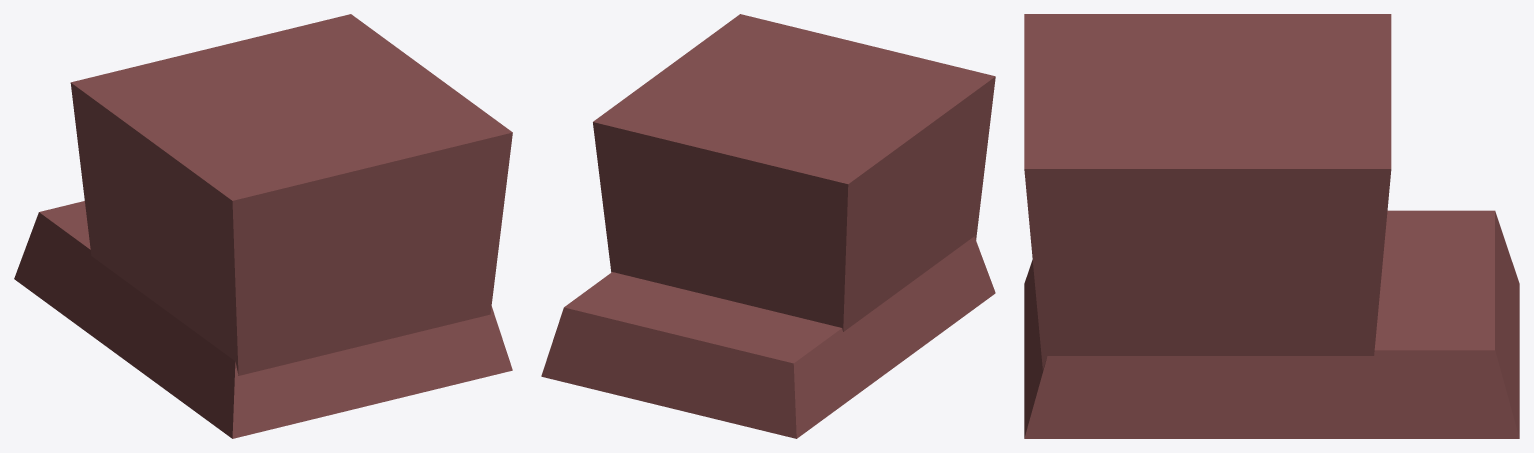
Rendered from animal_dryad_clawer_leg.obj.
3 renders of one model, left to right at view 1: azimuth 30°, elevation 25°; view 2: azimuth 150°, elevation 25°; view 3: azimuth 270°, elevation 25°, orthographic. The views are drawn at different scales.
Visible parts, largest first — view 1: animal_dryad_clawer_leg; view 2: animal_dryad_clawer_leg; view 3: animal_dryad_clawer_leg.
Boxes of the visible parts, left/top/right/bottom form: animal_dryad_clawer_leg: left=14, top=14, right=512, bottom=438; animal_dryad_clawer_leg: left=541, top=14, right=995, bottom=438; animal_dryad_clawer_leg: left=1024, top=14, right=1519, bottom=438.
Bounding box in the file's own units: 0.1256 × 0.1019 × 0.1695.
